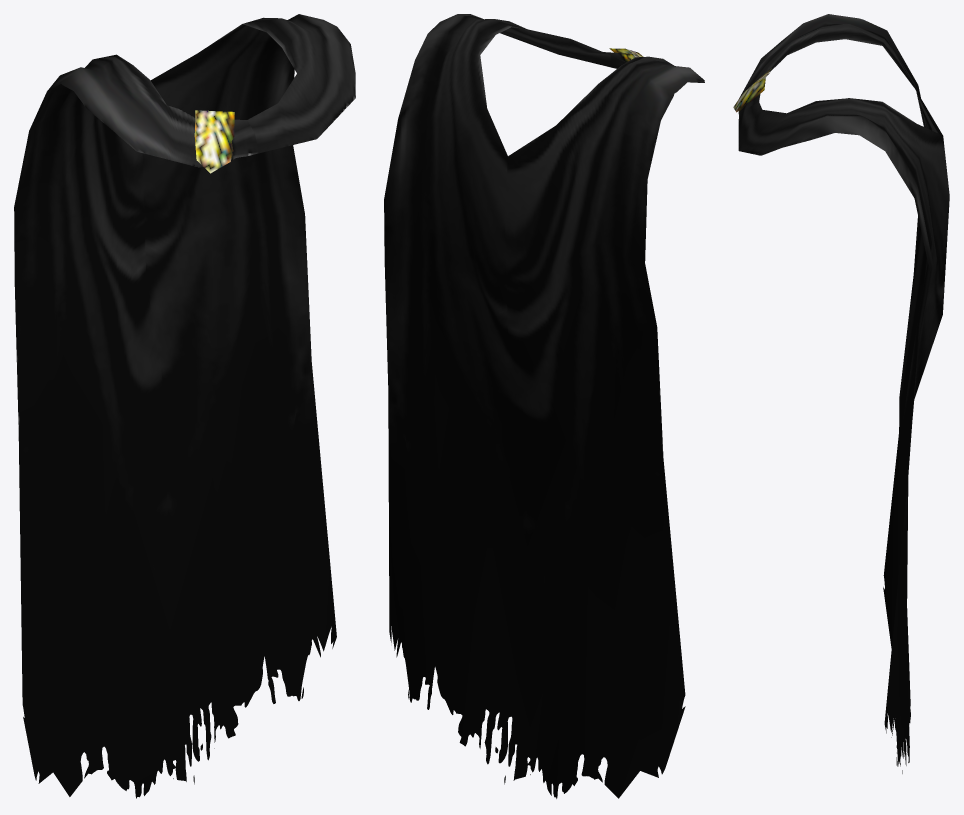
Rendered from cape_hd_ragged.dae.
The picture shows the model from 3 angles, left to right: view 1: azimuth 30°, elevation 25°; view 2: azimuth 150°, elevation 25°; view 3: azimuth 270°, elevation 25°; orthographic projection. The views are drawn at different scales.
Parts seen in each view (by area): view 1: Cape_Ragged; view 2: Cape_Ragged; view 3: Cape_Ragged.
Boxes of the visible parts, x1=… form: Cape_Ragged: x1=14, y1=14, x2=355, y2=798; Cape_Ragged: x1=384, y1=14, x2=704, y2=798; Cape_Ragged: x1=733, y1=14, x2=949, y2=773.
Bounding box in the file's own units: 1.19 × 2.83 × 0.7751.
